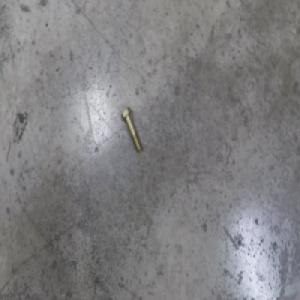Bolt: (122, 106, 143, 153)
